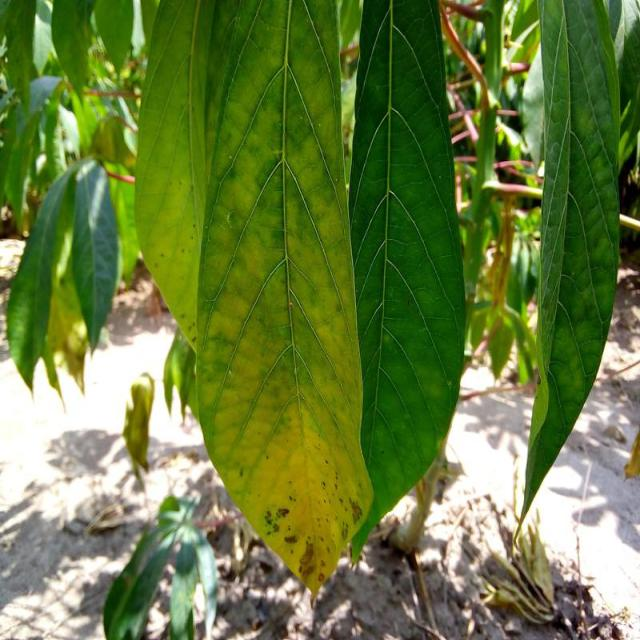cassava leaf: (133, 0, 376, 602), (345, 0, 467, 567), (512, 0, 621, 550), (5, 155, 121, 405)
